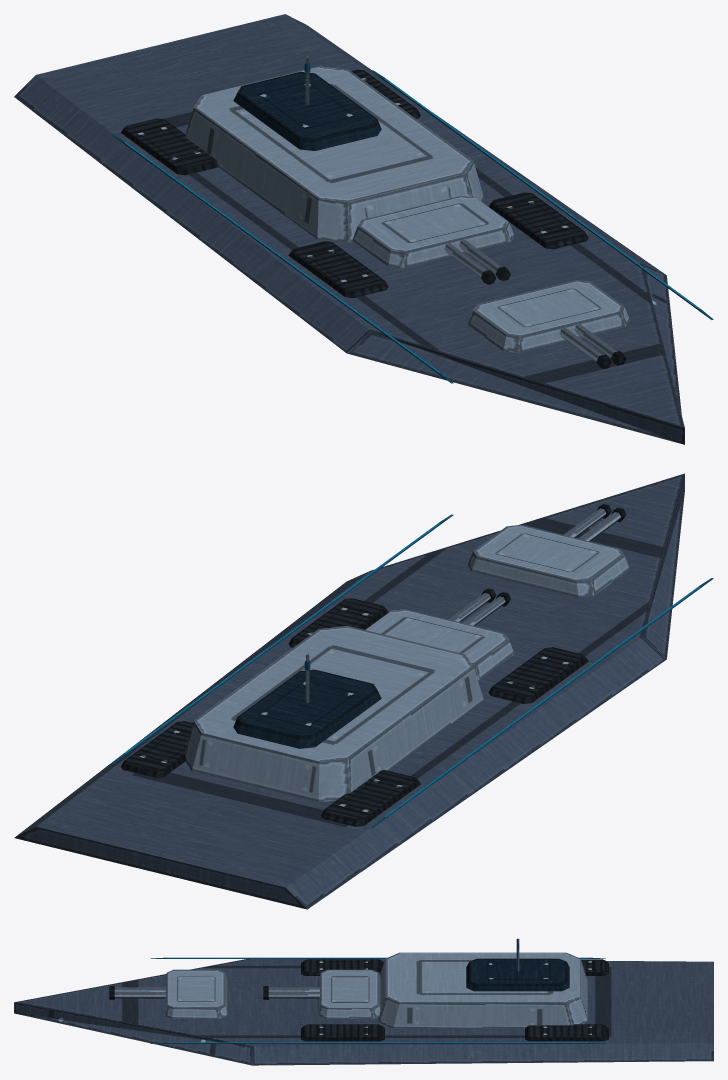
File: unit-cruiser.fbx
3 views of the same model, one above another, from view 1: azimuth 30°, elevation 25°; view 2: azimuth 150°, elevation 25°; view 3: azimuth 270°, elevation 25° (orthographic). The views are drawn at different scales.
Parts seen in each view (by area): view 1: unit-cruiser; view 2: unit-cruiser; view 3: unit-cruiser.
Boxes of the visible parts, x1=… form: unit-cruiser: x1=14, y1=14, x2=713, y2=444; unit-cruiser: x1=14, y1=473, x2=713, y2=909; unit-cruiser: x1=14, y1=938, x2=713, y2=1065.
Size of the model in its own units: 1411 by 470 by 4004.
Materials: 1 (1 with a texture image).
